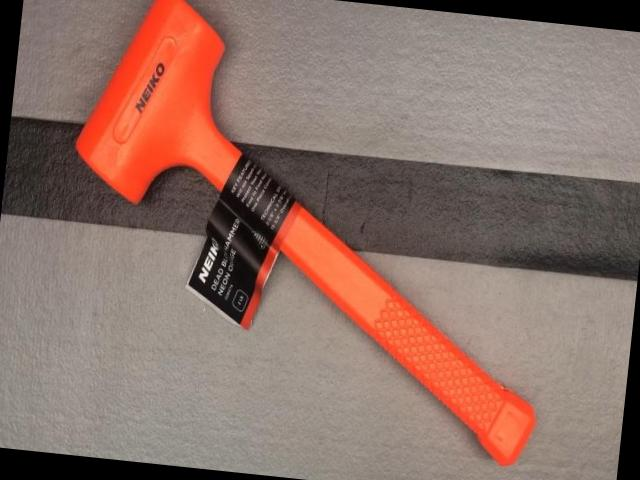hammer: (45, 0, 576, 467)
